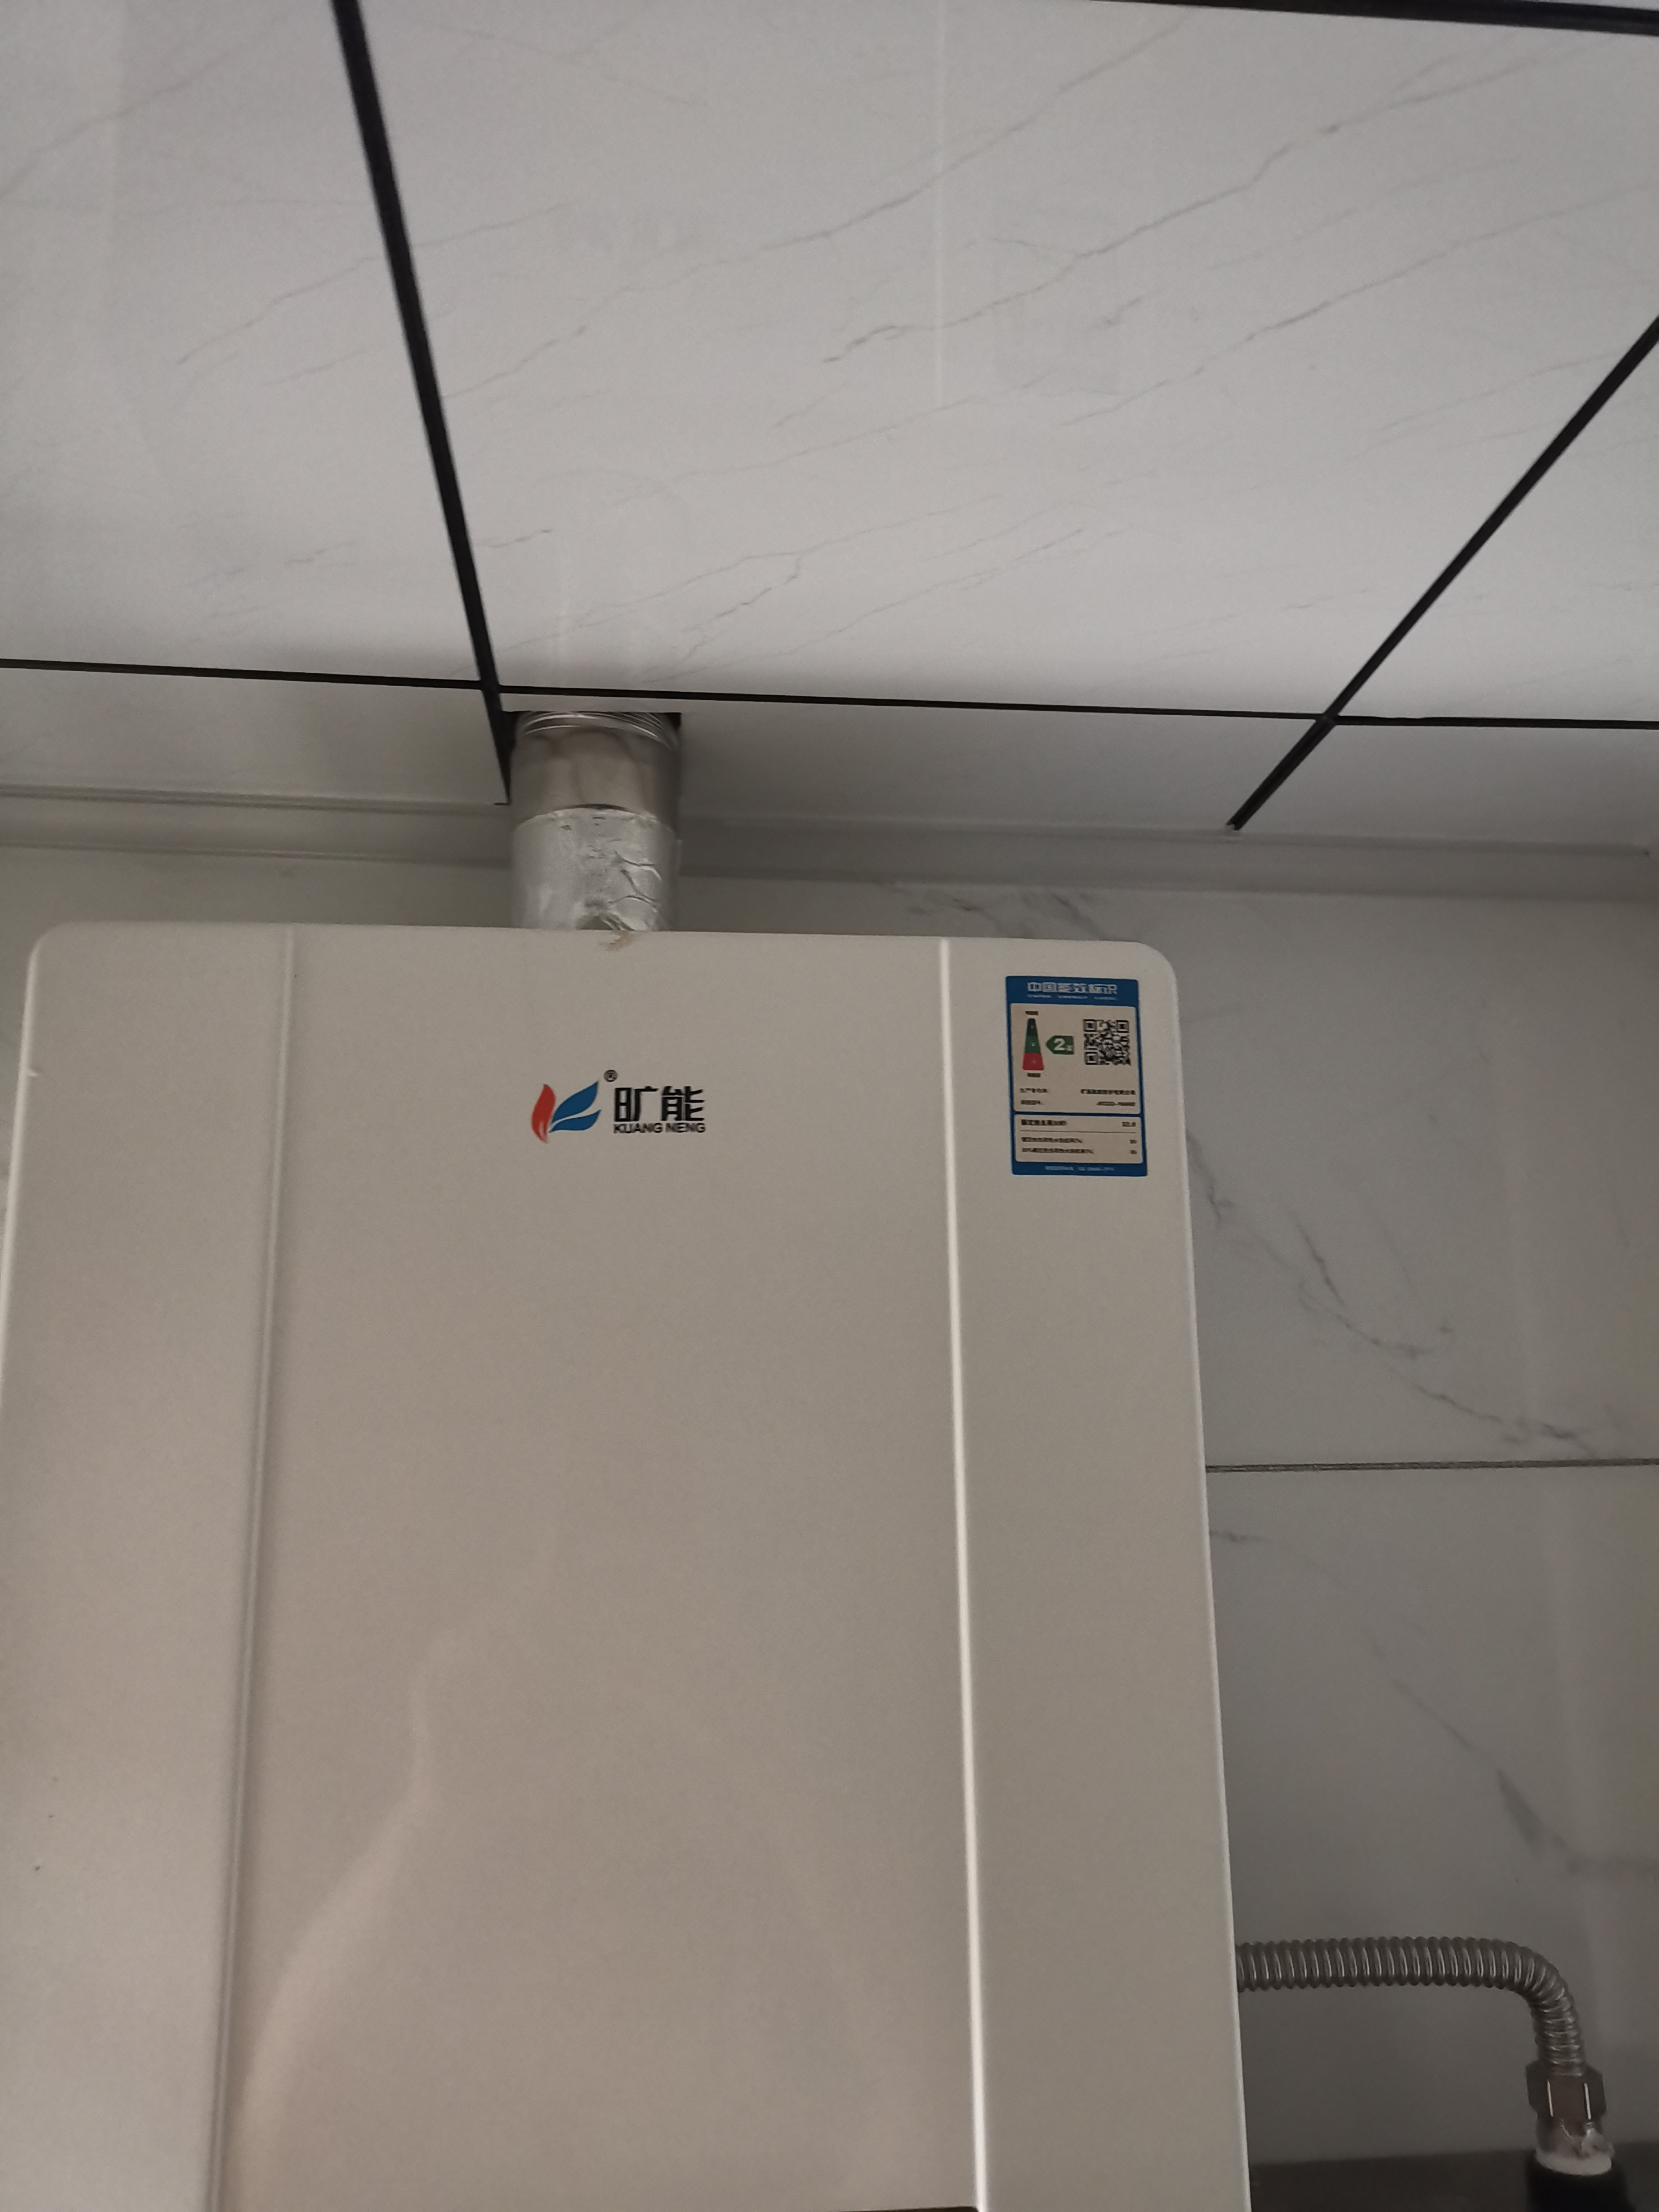loudou: (507, 1052, 732, 1150)
